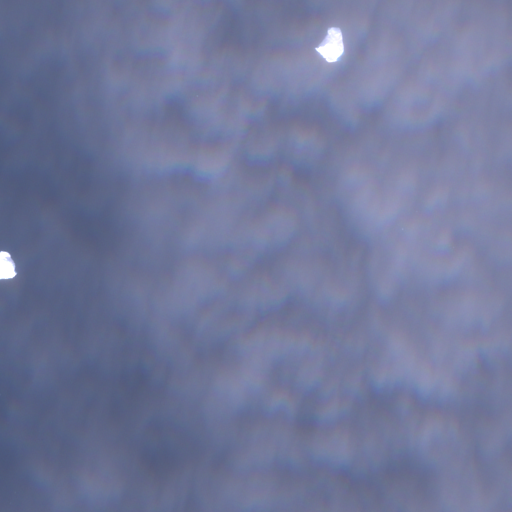Iceberg: (315, 27, 343, 62), (0, 251, 16, 279)
